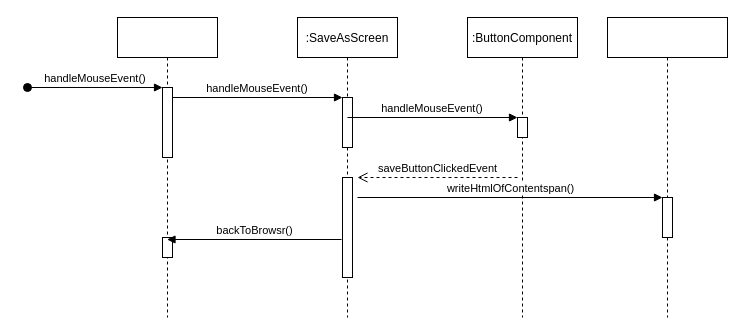
Image size: 745x335. Some labels were removed from this diagram. Here are the shapes that lost their labels. From the top down, the centre of each, then its label:
At (x=167, y=167): ":BrowsrView".
At (x=667, y=167): ":DocumentController".
